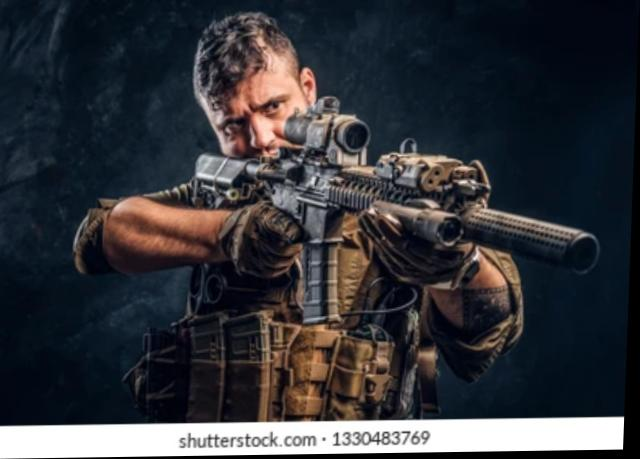other: (109, 24, 470, 418)
